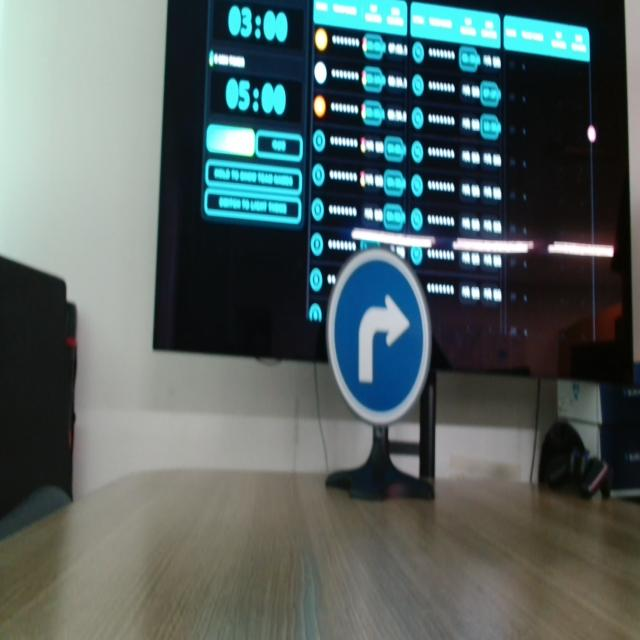right_dierection: (322, 244, 433, 426)
